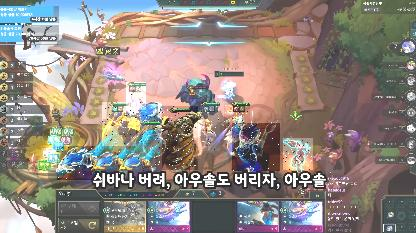1_aoshin: (120, 148, 160, 174), (92, 149, 124, 177)
1_shyvana: (283, 138, 313, 170)
2_aoshin: (135, 102, 165, 148), (57, 146, 95, 180)
2_aurelionsol: (232, 123, 280, 171)
3_bard: (102, 102, 136, 146)
3_joy: (200, 103, 220, 151)
3_soraka: (224, 103, 250, 137)
3_terra: (162, 106, 198, 170)
3_yasuo: (126, 82, 146, 110)
